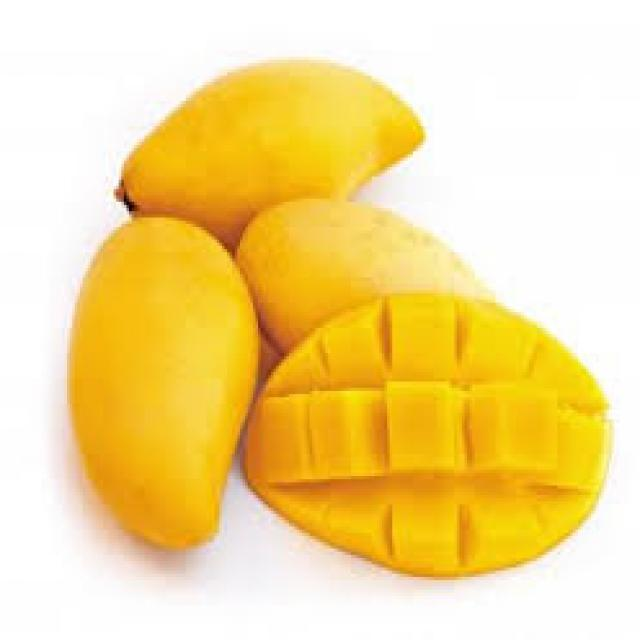organic waste: (238, 287, 606, 574), (67, 208, 261, 552), (108, 54, 426, 224), (235, 199, 495, 356)
